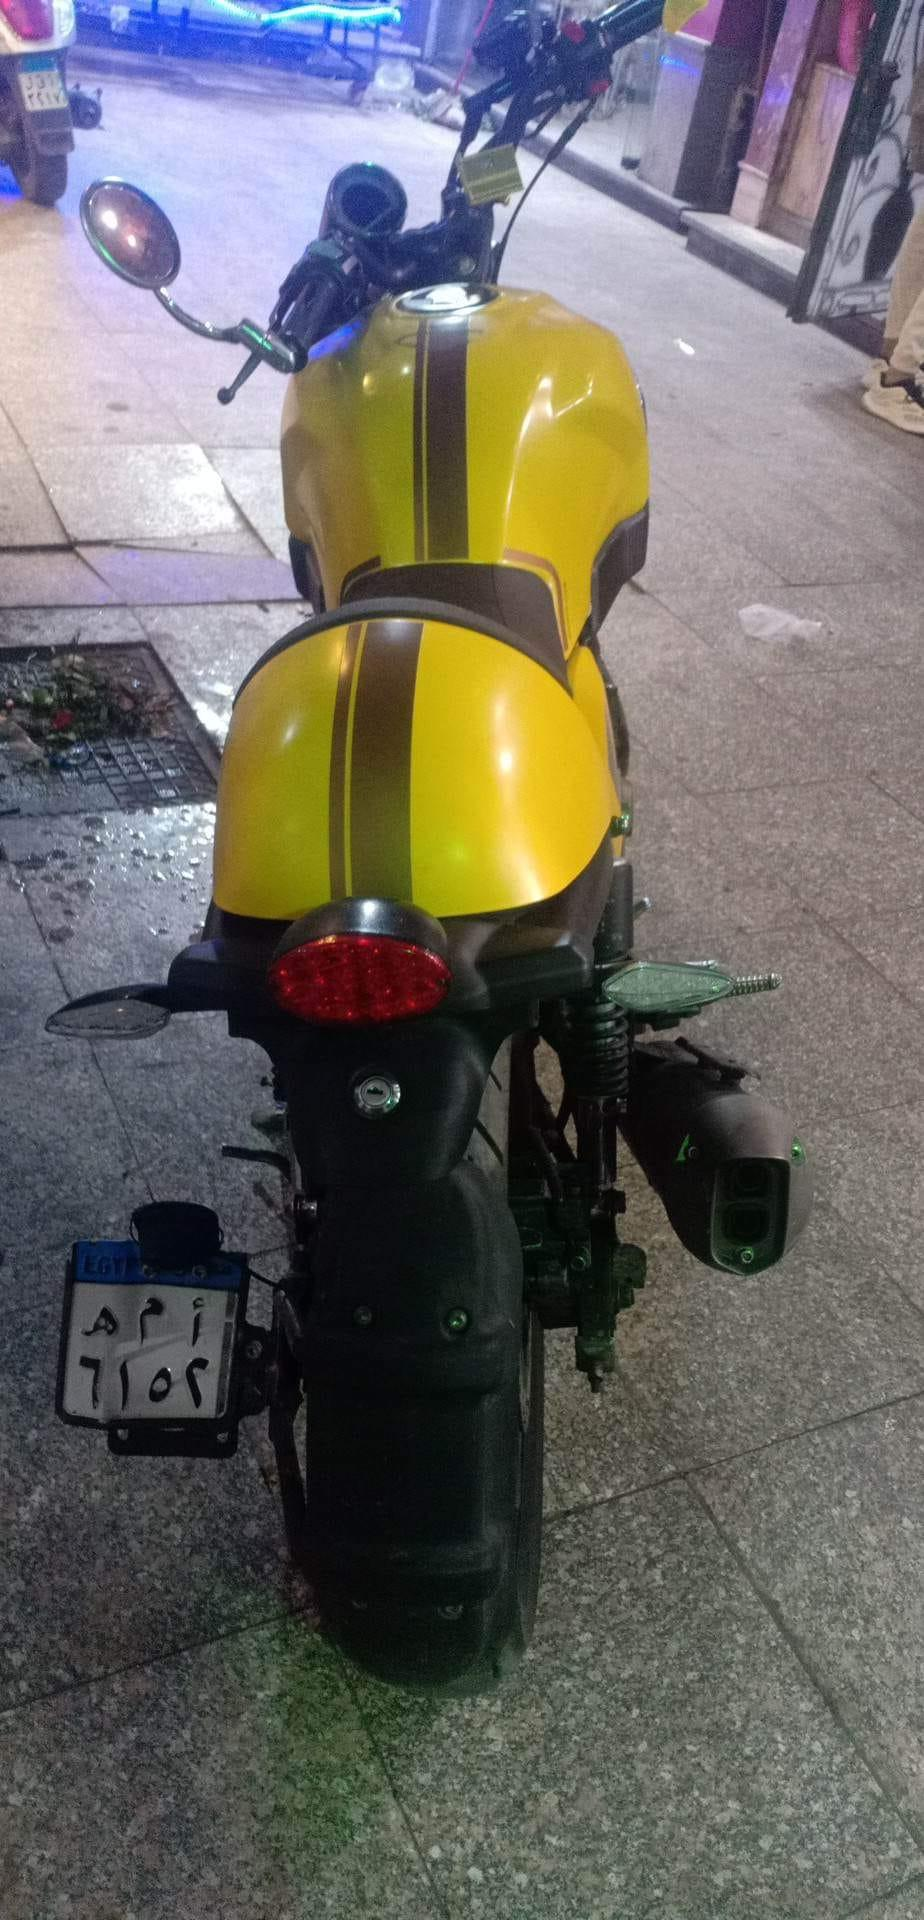License Plate: (57, 1222, 246, 1434)
